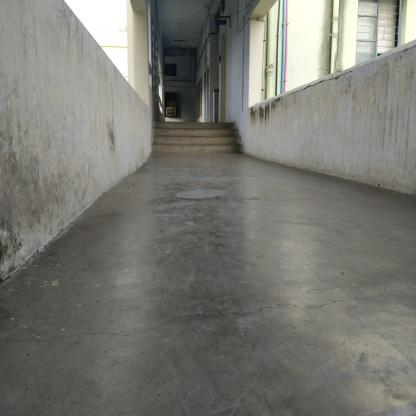stairs: (158, 122, 229, 155)
